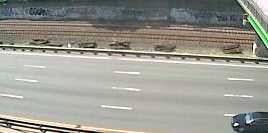car: (228, 111, 268, 132)
